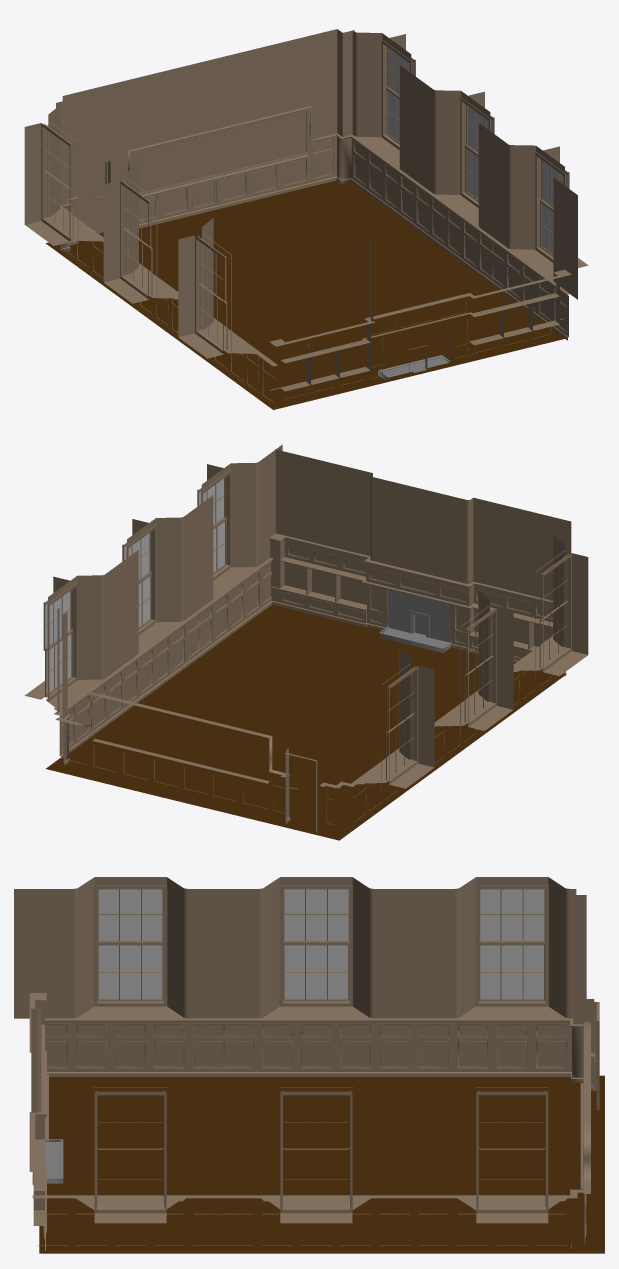
Rendered from final_room.gltf.
3 views of the same model, one above another, from view 1: azimuth 30°, elevation 25°; view 2: azimuth 150°, elevation 25°; view 3: azimuth 270°, elevation 25° (orthographic). The views are drawn at different scales.
Visible parts, largest first — view 1: final_room; view 2: final_room; view 3: final_room.
Boxes of the visible parts, x1,y1,x2,y2 form: final_room: [24, 29, 588, 409]; final_room: [24, 444, 588, 840]; final_room: [14, 877, 604, 1253].
Bounding box in the file's own units: 10.75 × 4.06 × 11.62.
5 materials, 4 textured.
